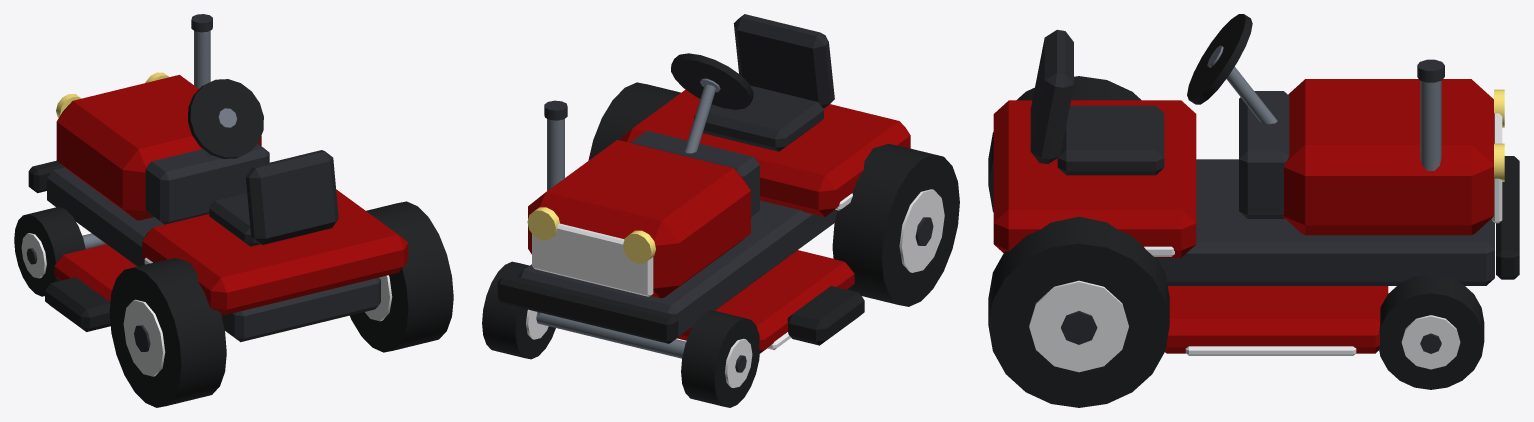
File: mower_rideon.fbx
The picture shows the model from 3 angles, left to right: view 1: azimuth 30°, elevation 25°; view 2: azimuth 150°, elevation 25°; view 3: azimuth 270°, elevation 25°; orthographic projection. The views are drawn at different scales.
Parts seen in each view (by area): view 1: Body, Wheel_RL, Wheel_RR, Wheel_FL; view 2: Body, Wheel_RL, Wheel_FL, Wheel_FR, Wheel_RR; view 3: Body, Wheel_RR, Wheel_FR, Wheel_RL.
Part boxes in pixels (bbox=[...]): Body: bbox=[28, 14, 408, 342]; Wheel_RL: bbox=[109, 258, 226, 407]; Wheel_RR: bbox=[350, 201, 453, 352]; Wheel_FL: bbox=[14, 207, 85, 296]; Body: bbox=[497, 14, 910, 358]; Wheel_RL: bbox=[832, 144, 959, 306]; Wheel_FL: bbox=[681, 310, 759, 407]; Wheel_FR: bbox=[482, 261, 555, 359]; Wheel_RR: bbox=[588, 82, 680, 160]; Body: bbox=[993, 14, 1519, 355]; Wheel_RR: bbox=[988, 216, 1169, 407]; Wheel_FR: bbox=[1378, 274, 1484, 389]; Wheel_RL: bbox=[988, 76, 1141, 212].
Size of the model in its own units: 3.87 by 3.16 by 4.98.
